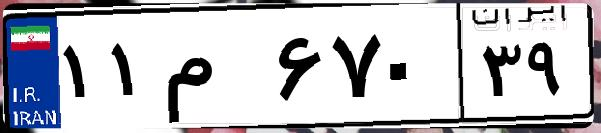0: (385, 28, 445, 110)
1: (57, 26, 110, 100), (110, 28, 158, 98)
3: (475, 38, 525, 113)
6: (270, 28, 330, 110)
7: (330, 28, 385, 110)
9: (525, 38, 570, 115)
م: (158, 20, 270, 120)
